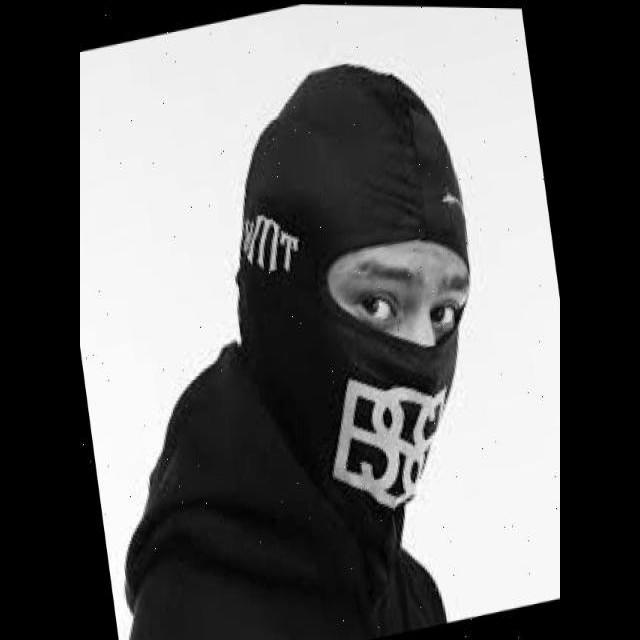6_pasamontana: (237, 63, 473, 521)
